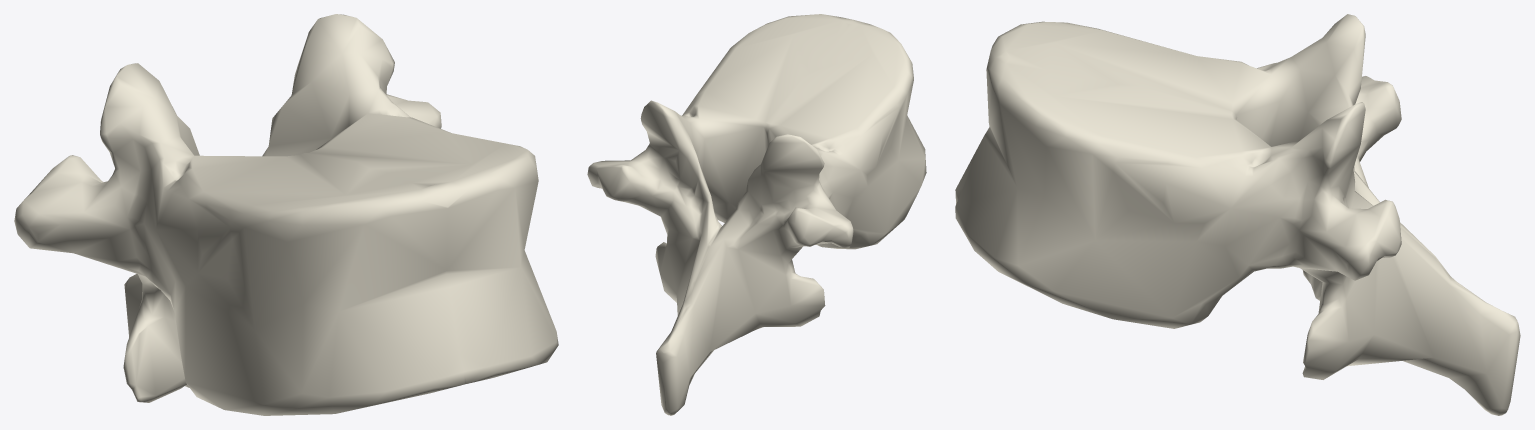
3 views of the same model, side by side, from view 1: azimuth 30°, elevation 25°; view 2: azimuth 150°, elevation 25°; view 3: azimuth 270°, elevation 25° (orthographic). The views are drawn at different scales.
Visible parts, largest first — view 1: ZA_18b015b2b8a113e3; view 2: ZA_18b015b2b8a113e3; view 3: ZA_18b015b2b8a113e3.
Part boxes in pixels (x1=…): ZA_18b015b2b8a113e3: x1=14, y1=14, x2=558, y2=415; ZA_18b015b2b8a113e3: x1=587, y1=14, x2=926, y2=415; ZA_18b015b2b8a113e3: x1=955, y1=14, x2=1520, y2=415.
Bounding box in the file's own units: 0.0581 × 0.055 × 0.0786.
